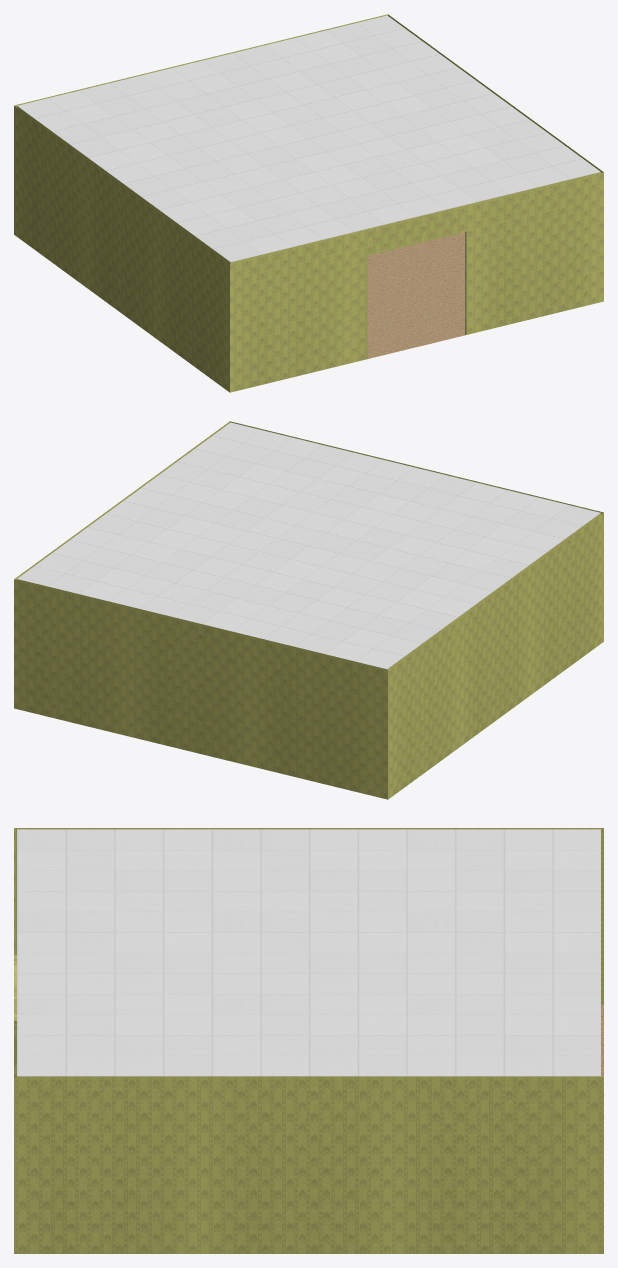
Rendered from baseRoom_exit.glb.
3 views of the same model, one above another, from view 1: azimuth 30°, elevation 25°; view 2: azimuth 150°, elevation 25°; view 3: azimuth 270°, elevation 25° (orthographic). The views are drawn at different scales.
Parts seen in each view (by area): view 1: baseRoom_exit; view 2: baseRoom_exit; view 3: baseRoom_exit.
Part boxes in pixels (box(x1,y1,x2,y2)): baseRoom_exit: box(14, 14, 603, 392); baseRoom_exit: box(14, 421, 603, 799); baseRoom_exit: box(14, 828, 603, 1253).
Size of what is drawn, in the model's own units: 15.15 by 5 by 15.15.
3 materials, 3 textured.
